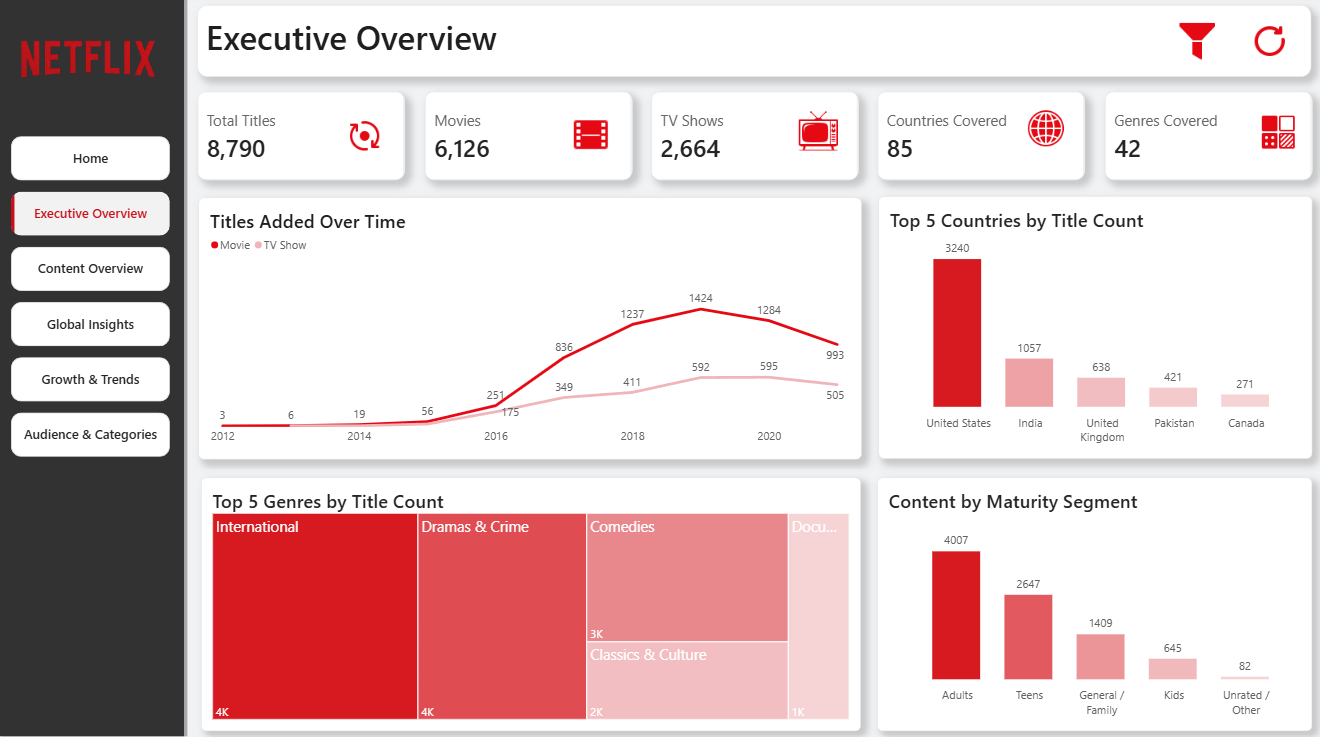

The page's visual inventory and layout, read from the dashboard file:
{"tool":"powerbi","page":{"name":"Executive Overview","canvas":[1920,1080],"ordinal":1},"visuals":[{"type":"shape","box":[0,0,277.3,1079.6],"z":0,"group":"g7"},{"type":"textbox","box":[292.1,14.8,1613.1,103.7],"z":0},{"type":"image","box":[1798.8,38,90.5,57.9],"z":0,"group":"g1"},{"type":"cardVisual","fields":{"Data":["_Measures.Total Titles"]},"box":[292.1,139.7,300.6,129.1],"z":0,"group":"g2"},{"type":"cardVisual","fields":{"Data":["_Measures.Movies"]},"box":[620.2,139.7,300.6,129.1],"z":0,"group":"g3"},{"type":"cardVisual","fields":{"Data":["_Measures.TV Shows"]},"box":[948.4,139.7,300.6,129.1],"z":0,"group":"g4"},{"type":"cardVisual","fields":{"Data":["_Measures.Countries Covered"]},"box":[1276.5,139.7,300.6,129.1],"z":0,"group":"g5"},{"type":"cardVisual","fields":{"Data":["_Measures.Genres Covered"]},"box":[1604.6,139.7,300.6,129.1],"z":0,"group":"g6"},{"type":"image","box":[36.6,0,194.1,185.7],"z":1000,"group":"g7"},{"type":"image","box":[1693.8,38,90.5,57.9],"z":1000,"group":"g1"},{"type":"group","id":"g1","title":"Filter Controls","box":[1693.8,38,195.4,57.9],"z":1000},{"type":"image","box":[1487.4,164.8,65,56.6],"z":1000,"group":"g5"},{"type":"image","box":[1157.8,168.5,65,56.6],"z":1000,"group":"g4"},{"type":"image","box":[1822.6,169.8,67.7,57.2],"z":1000,"group":"g6"},{"type":"image","box":[828,174,65,56.6],"z":1000,"group":"g3"},{"type":"image","box":[501.7,176.6,65,56.6],"z":1000,"group":"g2"},{"type":"group","id":"g2","title":"Group 1","box":[292.1,139.7,300.6,129.1],"z":2000},{"type":"pageNavigator","box":[21.2,205.3,230.7,469.9],"z":2000,"group":"g7"},{"type":"group","id":"g3","title":"Group 2","box":[620.2,139.7,300.6,129.1],"z":3000},{"type":"group","id":"g4","title":"Group 3","box":[948.4,139.7,300.6,129.1],"z":4000},{"type":"group","id":"g5","title":"Group 4","box":[1276.5,139.7,300.6,129.1],"z":5000},{"type":"group","id":"g6","title":"Group 5","box":[1604.6,139.7,300.6,129.1],"z":6000},{"type":"lineChart","title":"Titles Added Over Time","fields":{"Category":["DimDate.Date Hierarchy.Year","DimDate.Date Hierarchy.Quarter","DimDate.Date Hierarchy.Month Full Name"],"Series":["Shows.type"],"Y":["_Measures.Total Titles"]},"box":[292.3,292.3,960,379.3],"z":7000},{"type":"group","id":"g7","title":"Group 6","box":[0,0,277.3,1079.6],"z":8000},{"type":"columnChart","title":"Top 5 Countries by Title Count","fields":{"Category":["Shows.country"],"Y":["_Measures.Total Titles"]},"box":[1277.6,291.4,628,380],"z":9000},{"type":"columnChart","title":"Content by Maturity Segment","fields":{"Category":["Shows.Maturity_Segment"],"Y":["_Measures.Total Titles"]},"box":[1275.8,698.5,629.8,367.4],"z":10000},{"type":"treemap","title":"Top 5 Genres by Title Count","fields":{"Group":["ShowGenre.Clean_Genre"],"Values":["_Measures.Titles by Genre"]},"box":[296.8,698.5,955.5,367.4],"z":11000}]}

Visuals, with their boxes on the page's 1920x1080 design canvas (x1, y1, x2, y2). These are canvas units, not pixel positions in the 1320x737 screenshot, which may show the page scaled, cropped or inside an application window:
shape: box=[0, 0, 277, 1080]
textbox: box=[292, 15, 1905, 118]
image: box=[1799, 38, 1889, 96]
cardVisual - _Measures.Total Titles: box=[292, 140, 593, 269]
cardVisual - _Measures.Movies: box=[620, 140, 921, 269]
cardVisual - _Measures.TV Shows: box=[948, 140, 1249, 269]
cardVisual - _Measures.Countries Covered: box=[1276, 140, 1577, 269]
cardVisual - _Measures.Genres Covered: box=[1605, 140, 1905, 269]
image: box=[37, 0, 231, 186]
image: box=[1694, 38, 1784, 96]
"Filter Controls" group: box=[1694, 38, 1889, 96]
image: box=[1487, 165, 1552, 221]
image: box=[1158, 168, 1223, 225]
image: box=[1823, 170, 1890, 227]
image: box=[828, 174, 893, 231]
image: box=[502, 177, 567, 233]
"Group 1" group: box=[292, 140, 593, 269]
pageNavigator: box=[21, 205, 252, 675]
"Group 2" group: box=[620, 140, 921, 269]
"Group 3" group: box=[948, 140, 1249, 269]
"Group 4" group: box=[1276, 140, 1577, 269]
"Group 5" group: box=[1605, 140, 1905, 269]
"Titles Added Over Time" lineChart: box=[292, 292, 1252, 672]
"Group 6" group: box=[0, 0, 277, 1080]
"Top 5 Countries by Title Count" columnChart: box=[1278, 291, 1906, 671]
"Content by Maturity Segment" columnChart: box=[1276, 698, 1906, 1066]
"Top 5 Genres by Title Count" treemap: box=[297, 698, 1252, 1066]
